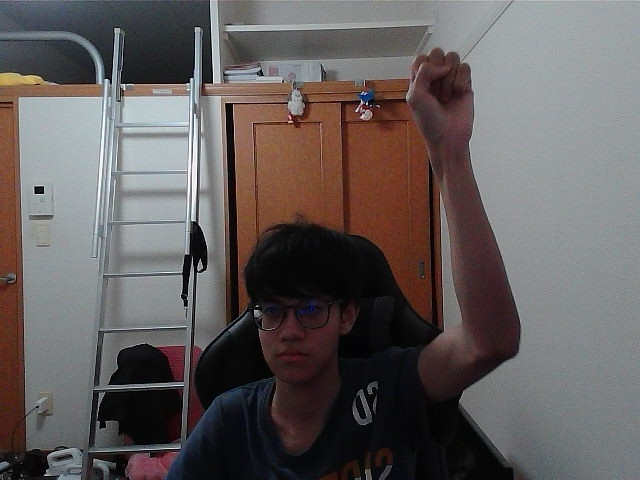closed_palm: (418, 54, 464, 137)
